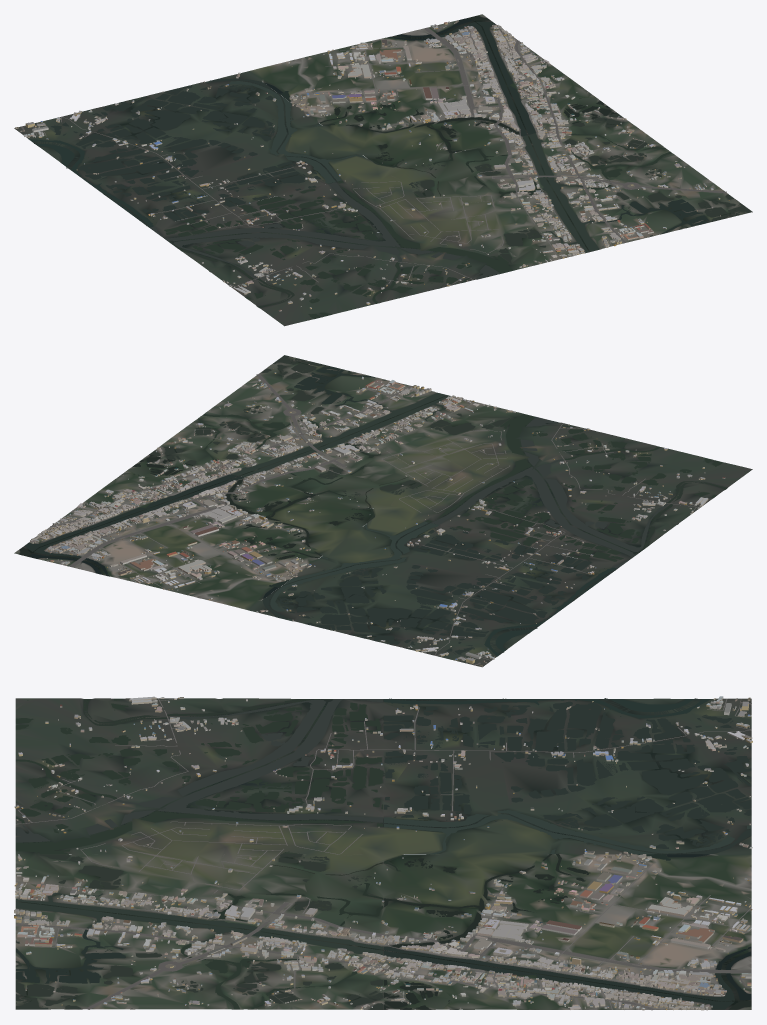
3 views of the same model, one above another, from view 1: azimuth 30°, elevation 25°; view 2: azimuth 150°, elevation 25°; view 3: azimuth 270°, elevation 25° (orthographic). The views are drawn at different scales.
Visible parts, largest first — view 1: ground, water, buildings, roads; view 2: ground, water, buildings, roads; view 3: ground, water, buildings, roads.
Boxes of the visible parts, bbox=[...] form: ground: bbox=[14, 14, 752, 326]; water: bbox=[29, 15, 752, 322]; buildings: bbox=[15, 21, 729, 311]; roads: bbox=[21, 23, 726, 287]; ground: bbox=[14, 356, 752, 667]; water: bbox=[19, 355, 744, 656]; buildings: bbox=[30, 364, 725, 666]; roads: bbox=[37, 374, 700, 665]; ground: bbox=[15, 698, 751, 1009]; water: bbox=[15, 698, 751, 1009]; buildings: bbox=[14, 696, 752, 1010]; roads: bbox=[15, 698, 751, 1010].
Bounding box in the file's own units: 2816 × 30.08 × 2813.
